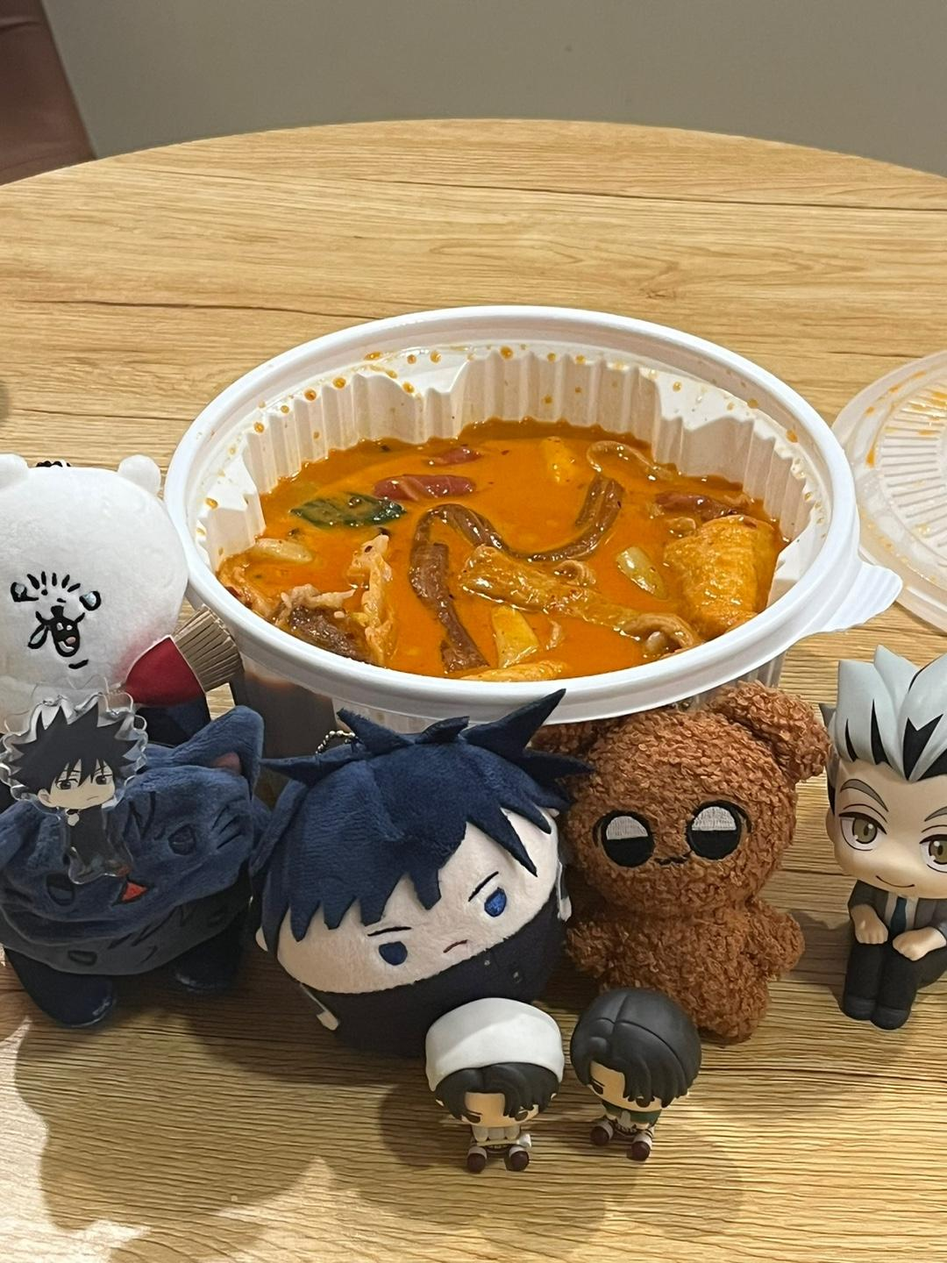Lunch Box: (164, 306, 901, 756), (834, 351, 946, 633)
